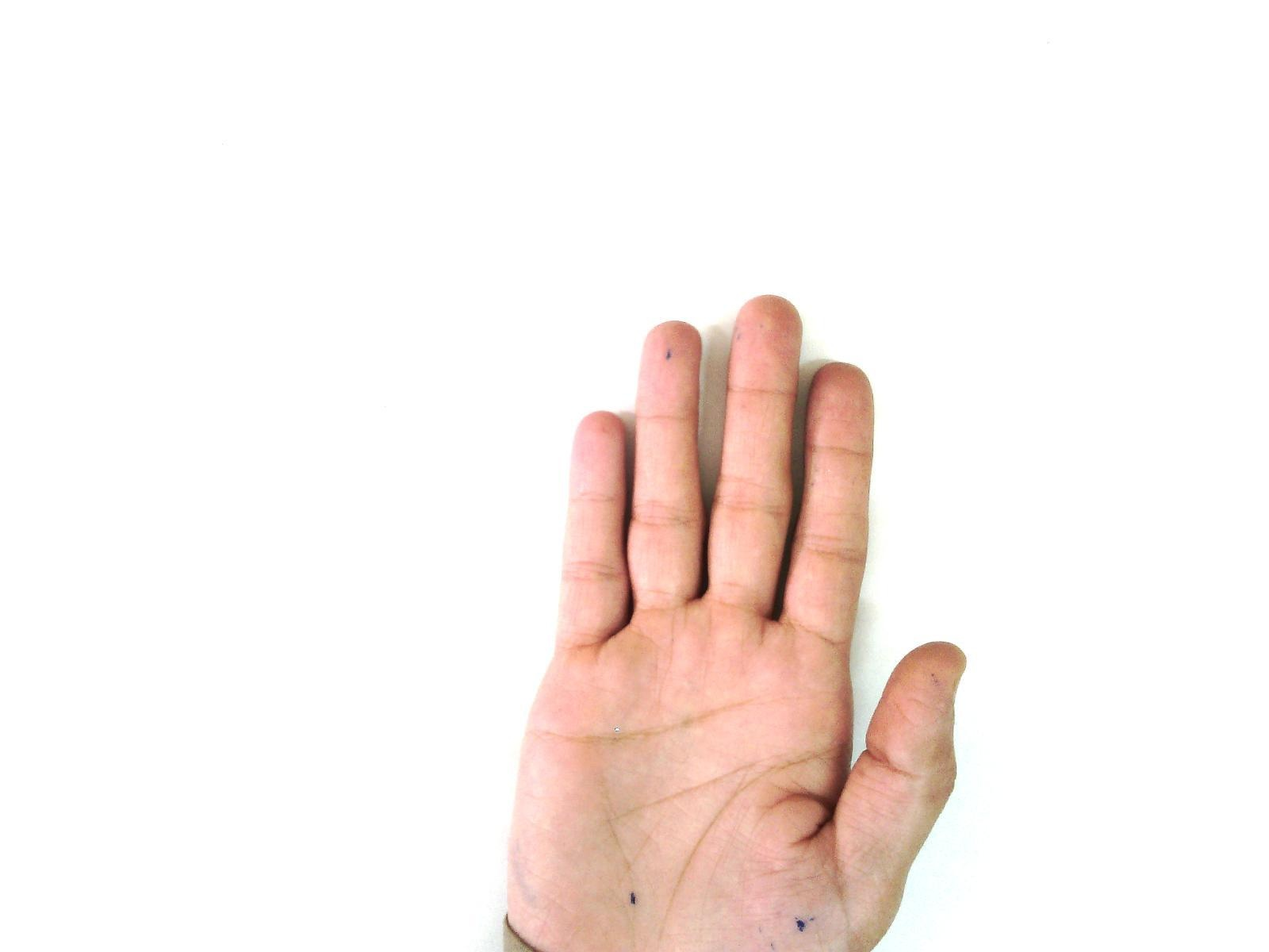open_palm: (500, 294, 969, 952)
